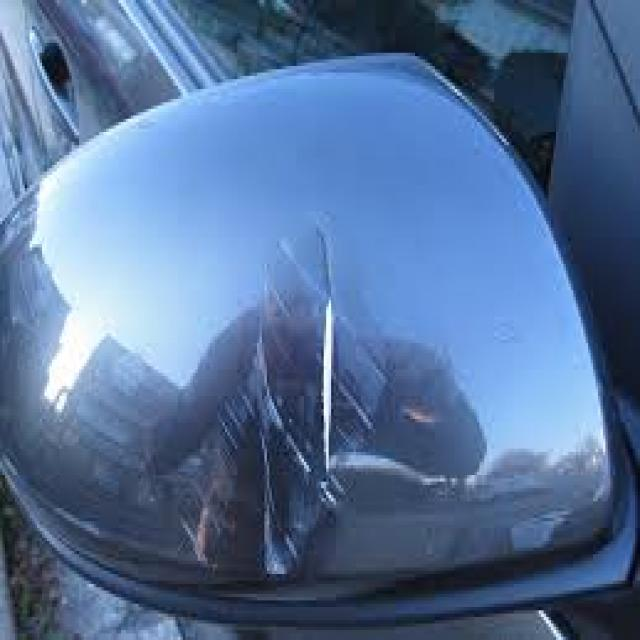moderate: (238, 188, 408, 562)
